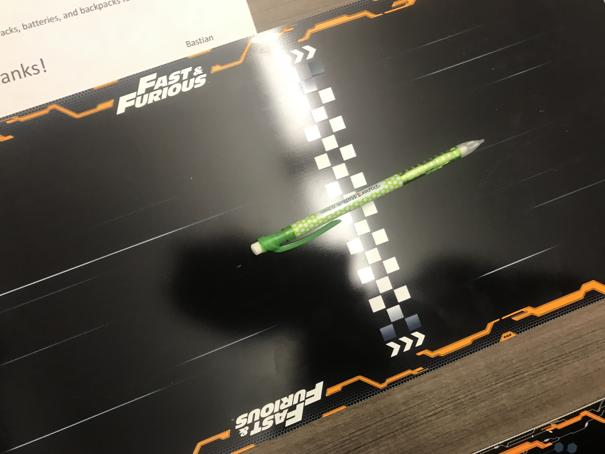Finish Line: (271, 44, 431, 357)
